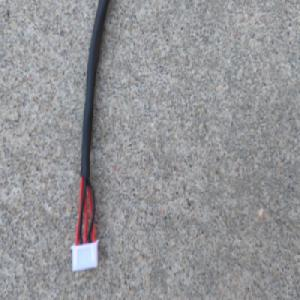Wire: (69, 0, 110, 275)
